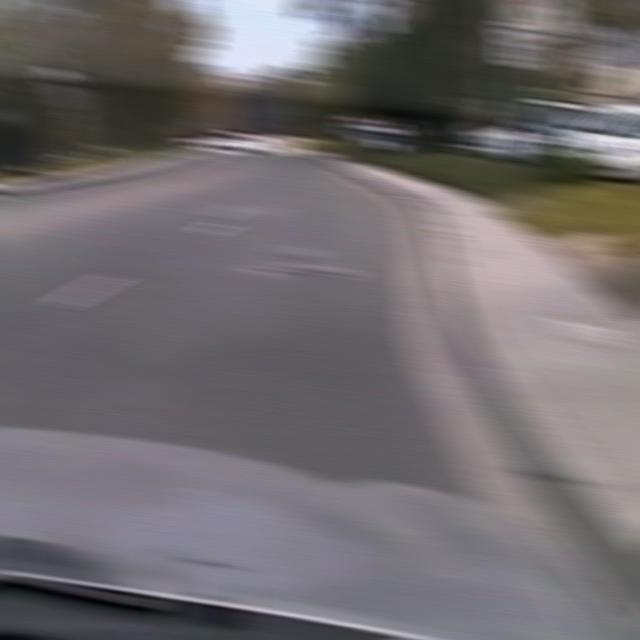speedLimit35: (498, 20, 538, 68)
